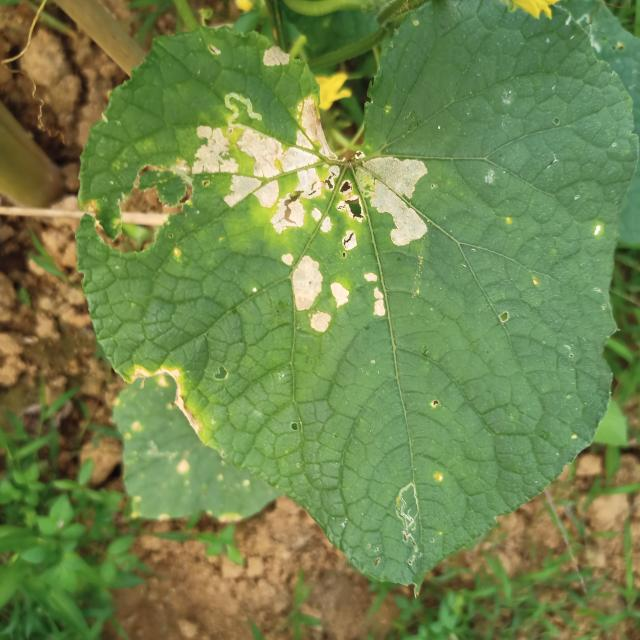disease_cucumber: (194, 105, 432, 350), (257, 41, 292, 73)
